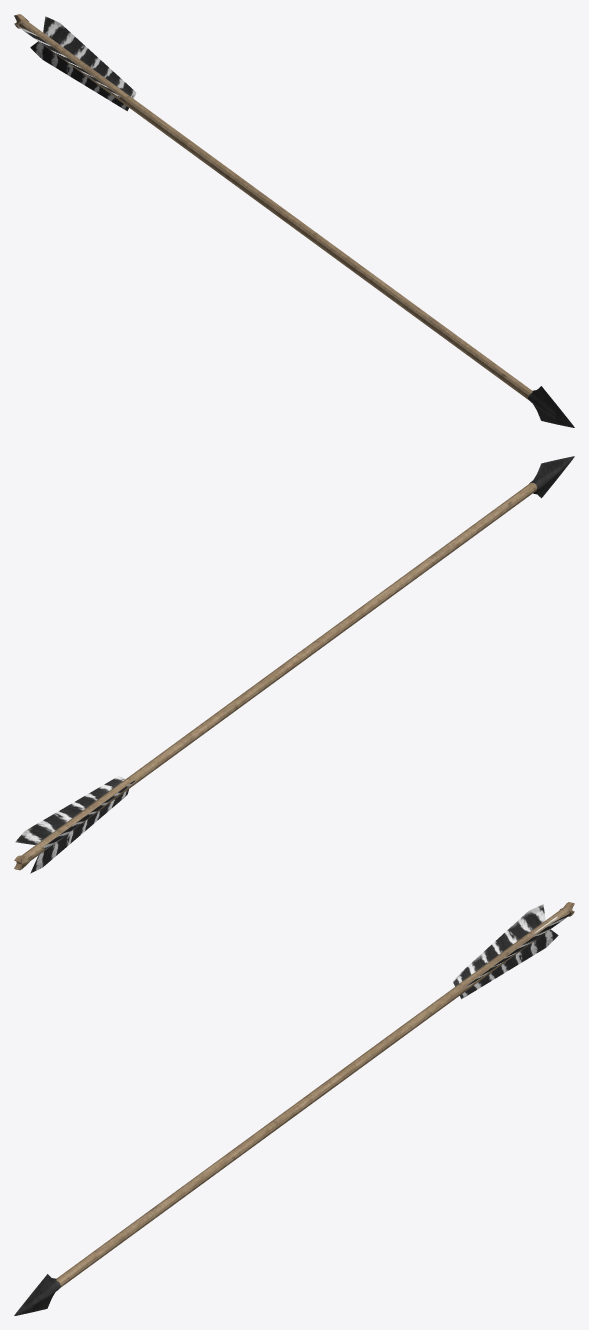
The model's file is Arrow_Base_Optimized.glb.
3 renders of one model, top to bottom at view 1: azimuth 30°, elevation 25°; view 2: azimuth 150°, elevation 25°; view 3: azimuth 330°, elevation 25°, orthographic.
Parts seen in each view (by area): view 1: Object_2; view 2: Object_2; view 3: Object_2.
Part boxes in pixels (x1=…): Object_2: x1=14, y1=14, x2=574, y2=427; Object_2: x1=14, y1=456, x2=574, y2=873; Object_2: x1=14, y1=902, x2=574, y2=1315.
Size of the model in its own units: 1.16 by 1.21 by 31.49.
Materials: 1 (1 with a texture image).
